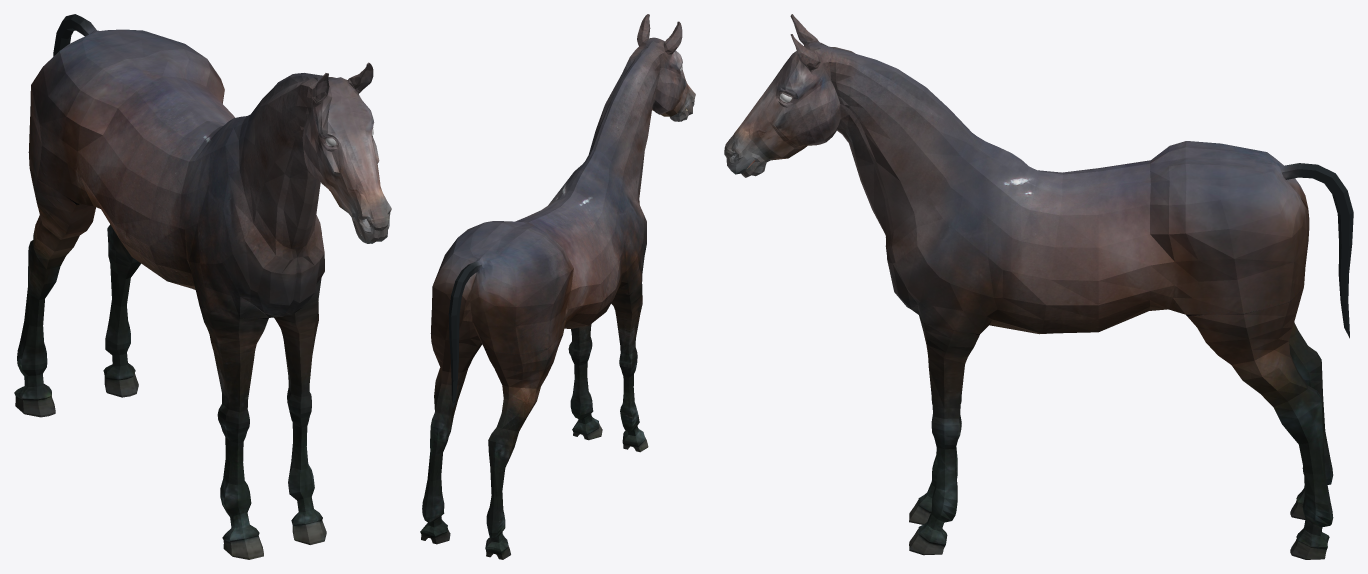
The model's file is Horse_A.obj.
3 renders of one model, left to right at view 1: azimuth 30°, elevation 25°; view 2: azimuth 150°, elevation 25°; view 3: azimuth 270°, elevation 25°, orthographic. The views are drawn at different scales.
Visible parts, largest first — view 1: Horse_Horse_Cylinder; view 2: Horse_Horse_Cylinder; view 3: Horse_Horse_Cylinder.
Part boxes in pixels (left/top/right/bottom): Horse_Horse_Cylinder: left=14, top=14, right=391, bottom=559; Horse_Horse_Cylinder: left=420, top=14, right=695, bottom=559; Horse_Horse_Cylinder: left=724, top=14, right=1353, bottom=559.
Size of the model in its own units: 0.6597 by 2.11 by 2.37.
